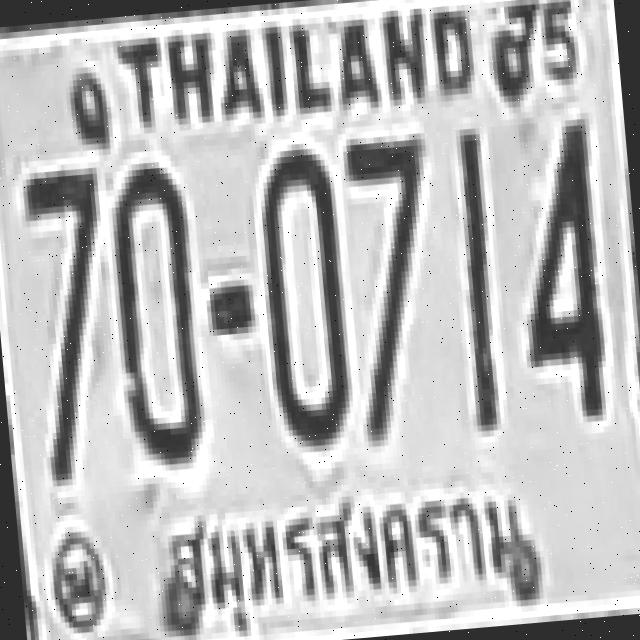0: (105, 158, 206, 464), (252, 144, 352, 446)
1: (449, 125, 503, 428), (450, 128, 500, 402)
4: (507, 113, 608, 420)
7: (339, 133, 444, 435), (19, 165, 120, 478), (344, 130, 434, 319)
SamutSongkhram: (158, 470, 542, 624)
